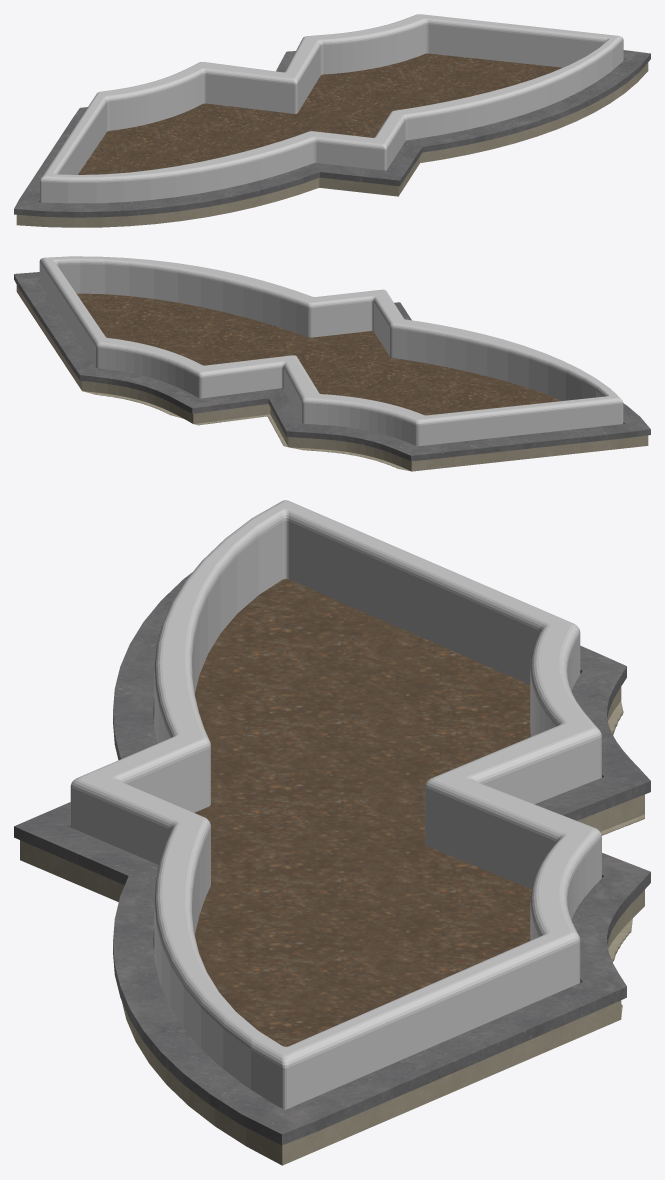
Rendered from planter_normal.fbx.
The picture shows the model from 3 angles, top to bottom: view 1: azimuth 30°, elevation 25°; view 2: azimuth 150°, elevation 25°; view 3: azimuth 270°, elevation 25°; orthographic projection. The views are drawn at different scales.
Parts seen in each view (by area): view 1: BezierCurve, Planter_save; view 2: BezierCurve, Planter_save; view 3: Planter_save, BezierCurve.
Part boxes in pixels (x1,y1,x2,y2): BezierCurve: (40, 14, 623, 203); Planter_save: (14, 50, 650, 227); BezierCurve: (39, 256, 623, 446); Planter_save: (14, 272, 650, 471); Planter_save: (14, 572, 650, 1165); BezierCurve: (70, 500, 601, 1109).
Bounding box in the file's own units: 548 × 34.15 × 240.
